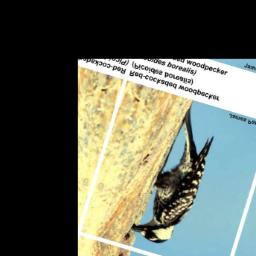Woodpecker: (126, 101, 224, 252)
